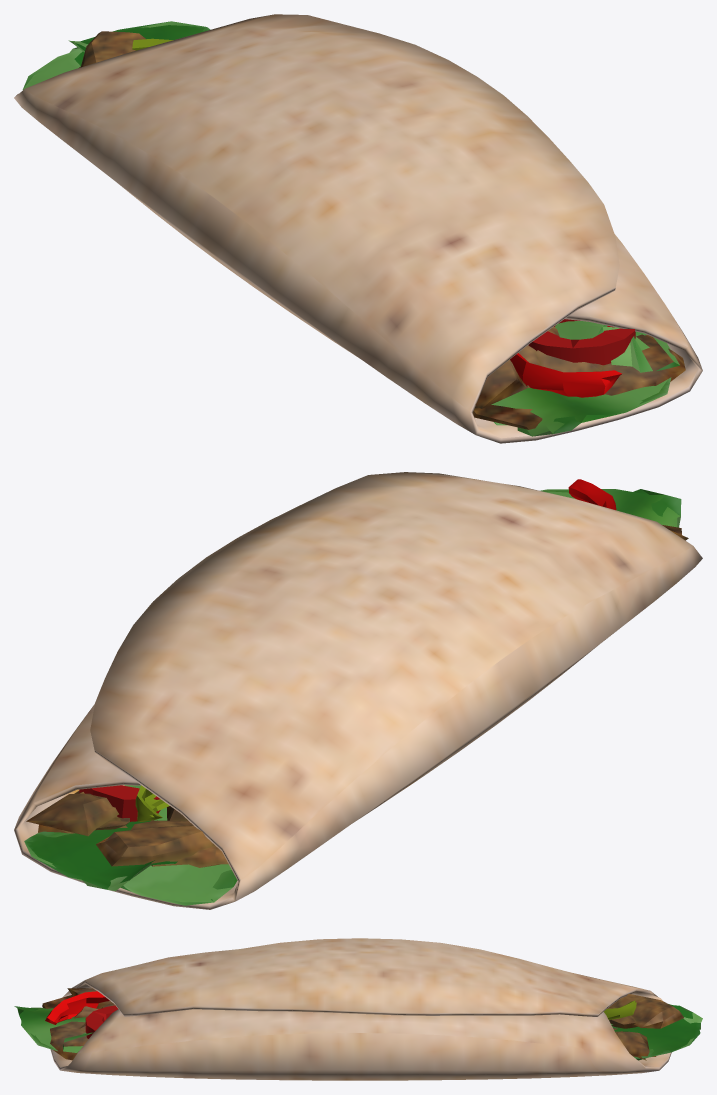
3 views of the same model, one above another, from view 1: azimuth 30°, elevation 25°; view 2: azimuth 150°, elevation 25°; view 3: azimuth 270°, elevation 25° (orthographic). The views are drawn at different scales.
Parts seen in each view (by area): view 1: kebab; view 2: kebab; view 3: kebab.
Boxes of the visible parts, x1,y1,x2,y2 form: kebab: (14, 14, 702, 443); kebab: (14, 472, 702, 909); kebab: (14, 938, 702, 1080).
Bounding box in the file's own units: 6.3 × 2.46 × 17.18.
1 material, 1 textured.
